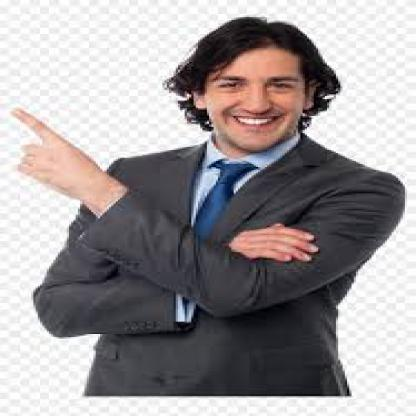Up: (1, 96, 100, 210)
